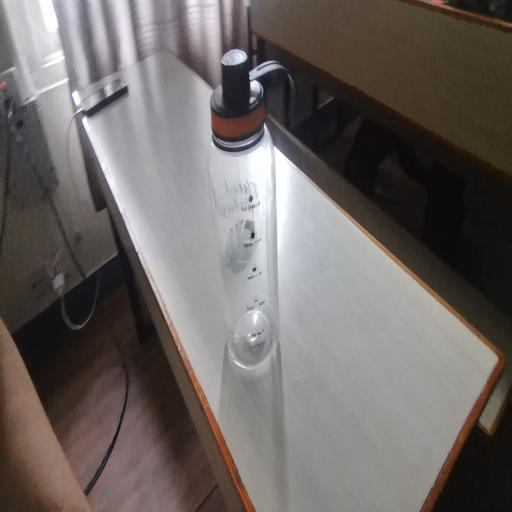Bottle: (201, 67, 318, 434)
